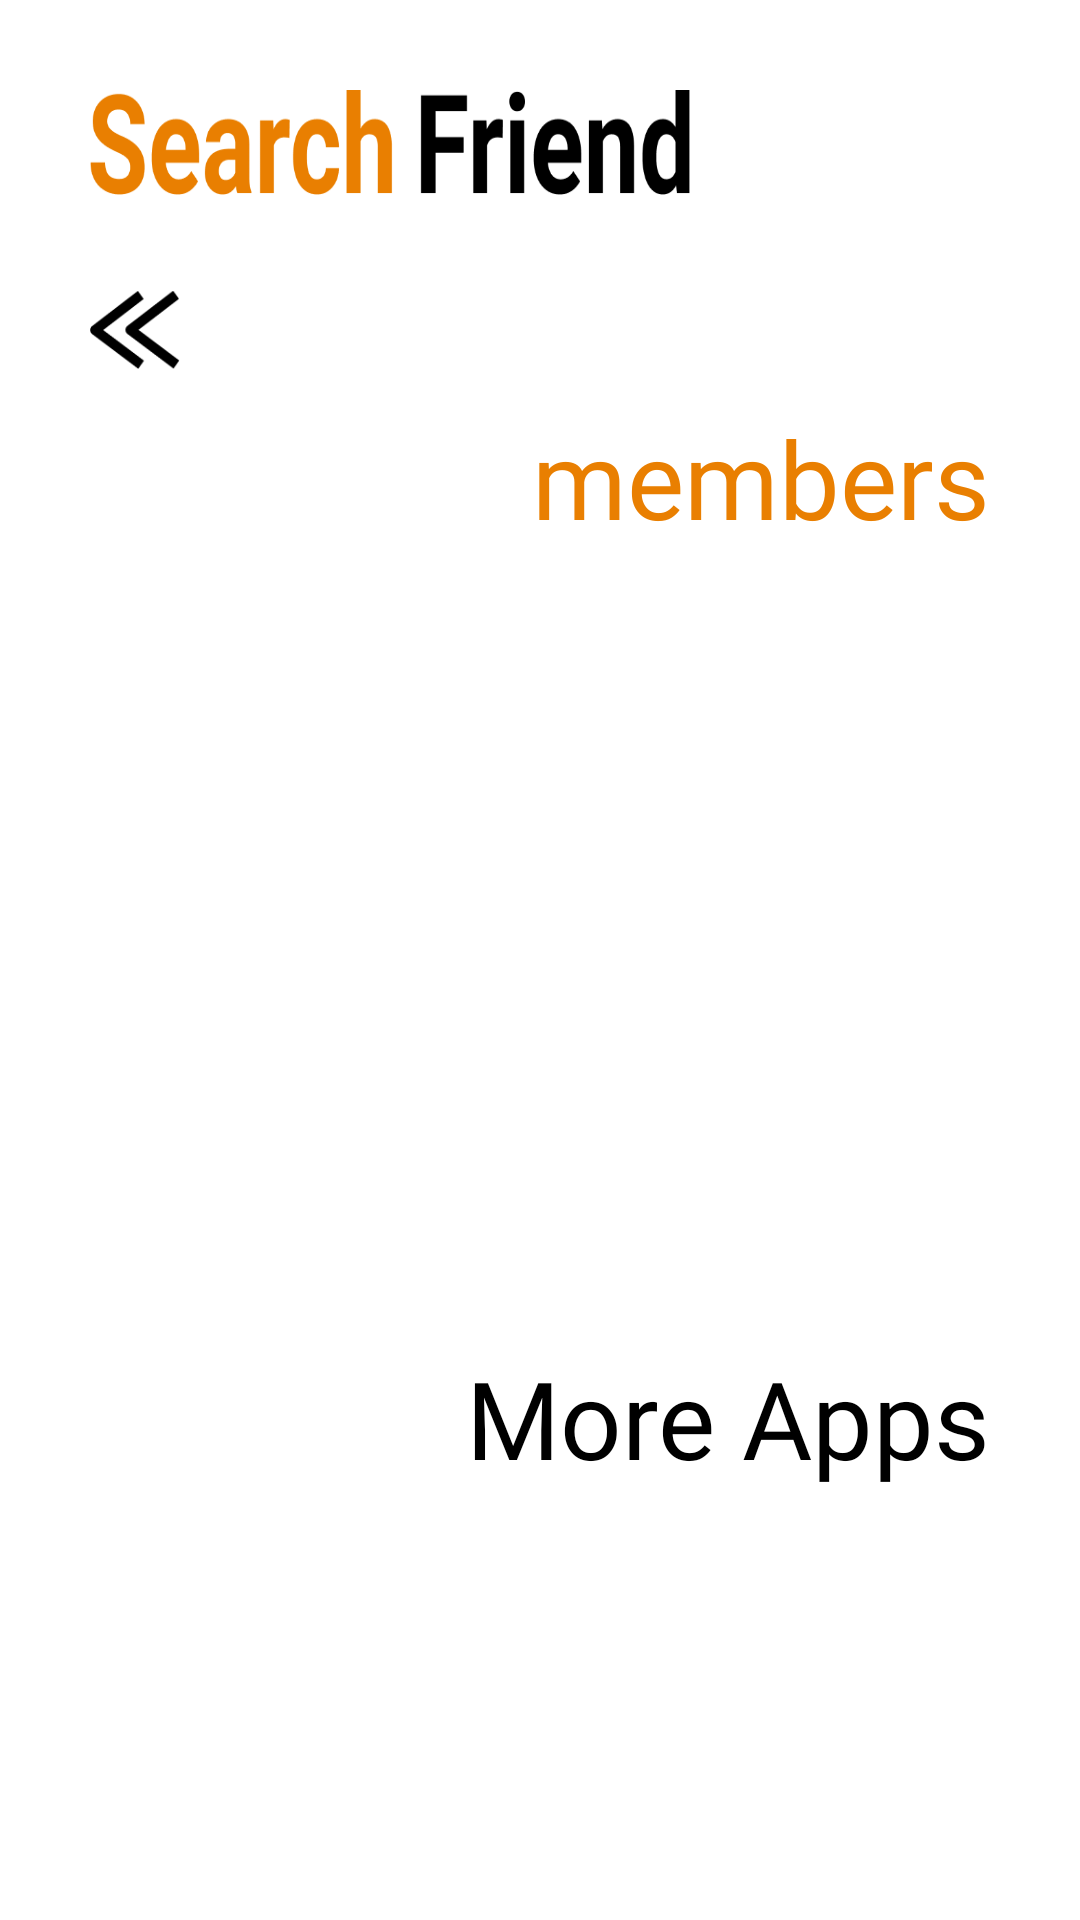

Screen size 1080x1920. Icon name, then its box in pixels as (x1,y1,x2,y2):
back: (90,291,179,369)
